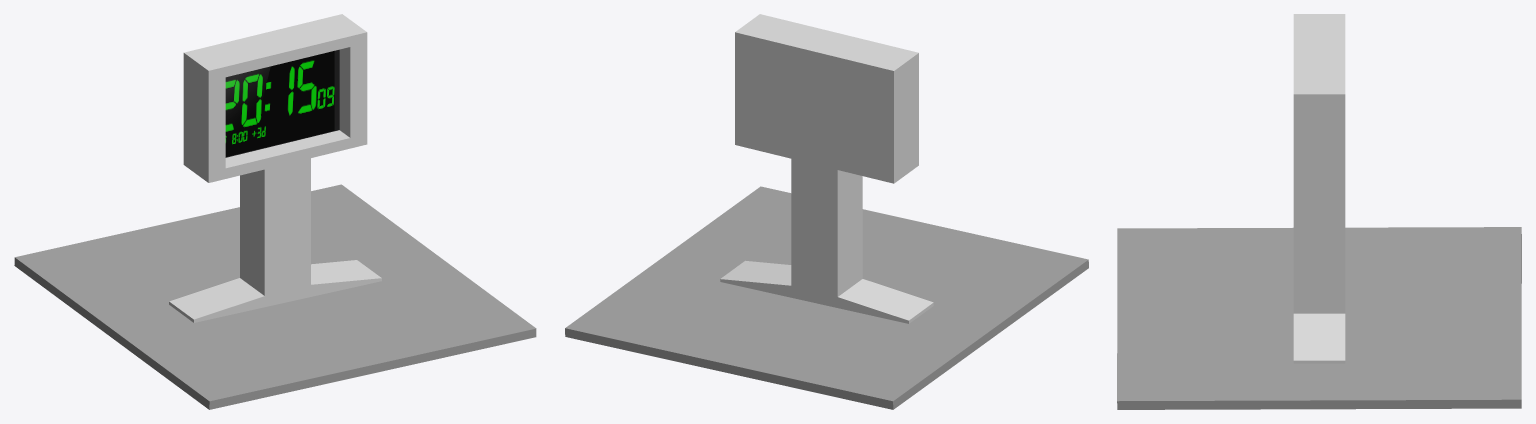
The model's file is digitalWhetherbox.fbx.
The picture shows the model from 3 angles, left to right: view 1: azimuth 30°, elevation 25°; view 2: azimuth 150°, elevation 25°; view 3: azimuth 270°, elevation 25°; orthographic projection. The views are drawn at different scales.
Visible parts, largest first — view 1: pCube2, pCube1; view 2: pCube2, pCube1; view 3: pCube2, pCube1.
Boxes of the visible parts, x1,y1,x2,y2 form: pCube2: (14,184,536,409); pCube1: (169,14,381,322); pCube2: (565,186,1088,409); pCube1: (720,14,933,323); pCube2: (1117,227,1521,409); pCube1: (1293,14,1345,363).
Size of the model in its own units: 10.34 by 8.49 by 10.67.
3 materials, 1 textured.
